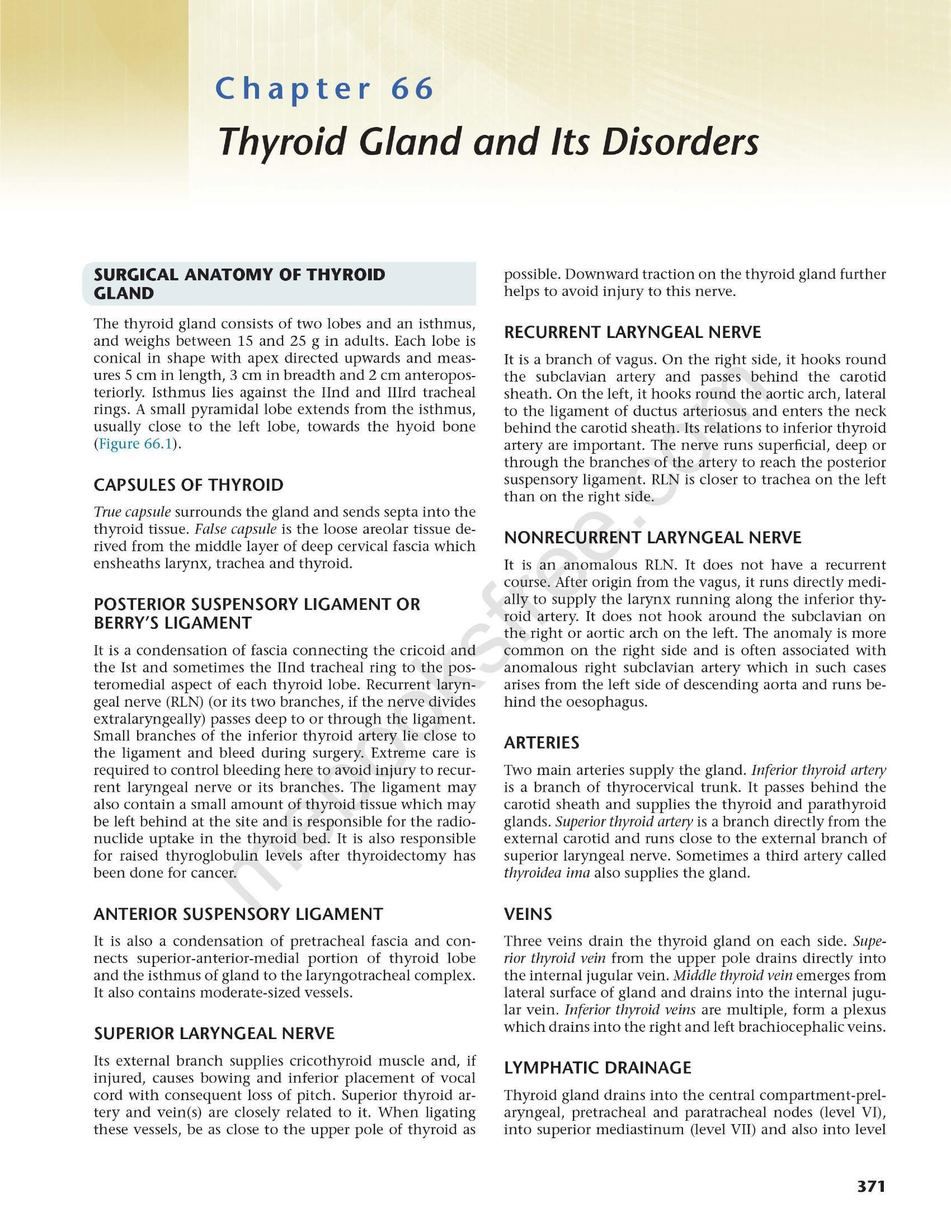caption: (504, 528, 803, 544), (503, 324, 762, 339), (503, 1059, 692, 1076), (502, 734, 581, 750), (502, 905, 553, 922)
chapter-heading: (217, 123, 761, 167)
section-heading: (92, 265, 388, 301)
sub-section-heading: (92, 596, 421, 632), (92, 905, 384, 921), (93, 1024, 335, 1040), (92, 476, 286, 494)
text: (92, 643, 478, 880), (502, 351, 887, 507), (502, 557, 887, 712), (92, 316, 478, 454), (502, 763, 887, 883), (503, 934, 888, 1038), (92, 1053, 477, 1141), (92, 504, 477, 574), (92, 935, 478, 999), (503, 1088, 888, 1140), (503, 265, 888, 300)
